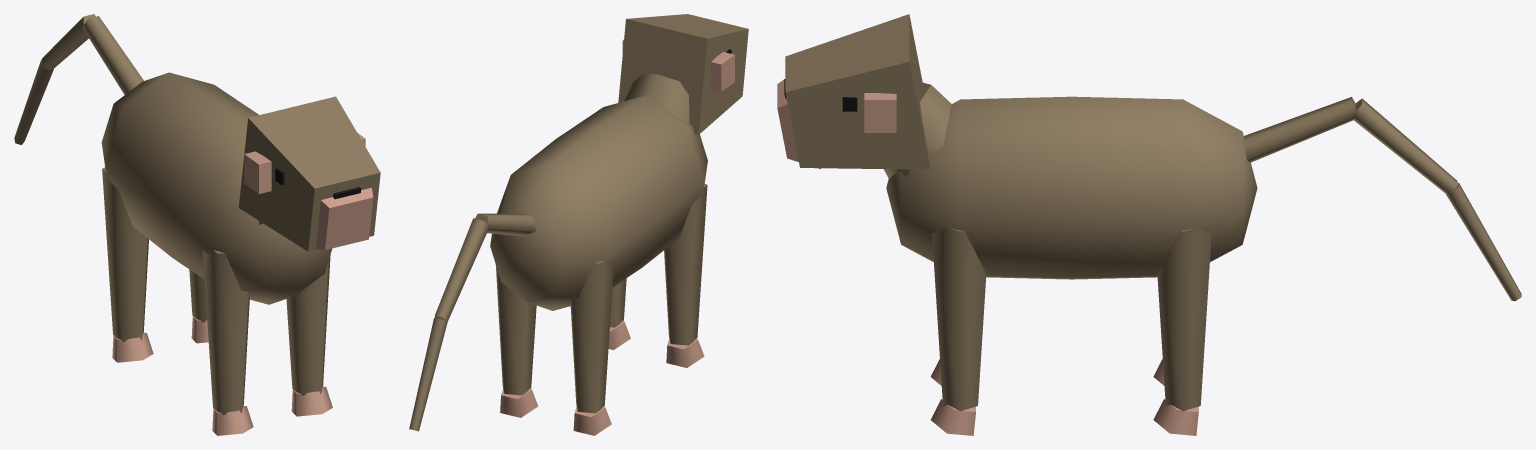
The model's file is monyet.glb.
The picture shows the model from 3 angles, left to right: view 1: azimuth 30°, elevation 25°; view 2: azimuth 150°, elevation 25°; view 3: azimuth 270°, elevation 25°; orthographic projection. The views are drawn at different scales.
Visible parts, largest first — view 1: body, head, leg_fr, leg_rr, leg_fl, tail, leg_rl; view 2: body, head, leg_rr, leg_fr, tail, leg_rl, leg_fl; view 3: body, head, leg_rl, leg_fl, tail.
Part boxes in pixels (box(x1,y1,x2,y2)): body: box(101, 72, 331, 304); head: box(238, 96, 380, 251); leg_fr: box(202, 250, 253, 435); leg_rr: box(102, 167, 153, 362); leg_fl: box(286, 255, 332, 416); tail: box(14, 14, 143, 144); leg_rl: box(189, 269, 208, 343); body: box(490, 73, 707, 310); head: box(618, 14, 748, 134); leg_rr: box(570, 260, 614, 435); leg_fr: box(664, 184, 707, 367); tail: box(409, 213, 535, 431); leg_rl: box(496, 266, 538, 417); leg_fl: box(608, 278, 630, 349); body: box(883, 82, 1257, 279); head: box(777, 14, 930, 169); leg_rl: box(1153, 227, 1211, 435); leg_fl: box(931, 228, 986, 435); tail: box(1244, 97, 1521, 301).
Bounding box in the file's own units: 0.21 × 0.5065 × 0.9223.
Materials: 1 (1 with a texture image).
